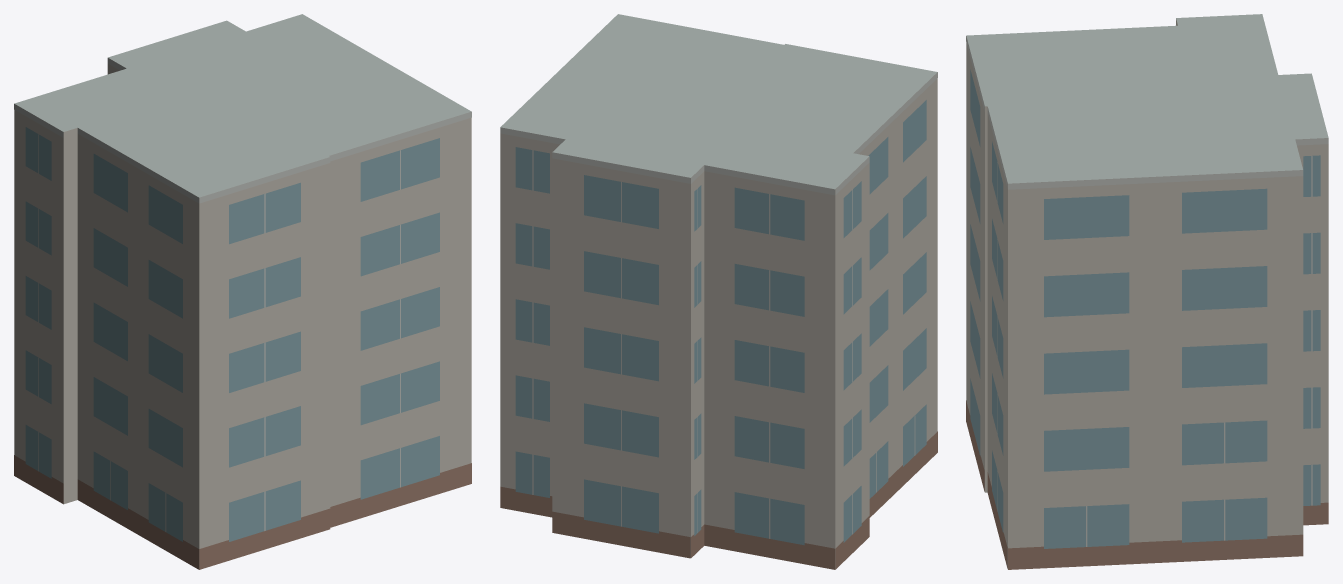
The model's file is survey-upis-33037349.glb.
3 views of the same model, side by side, from view 1: azimuth 30°, elevation 25°; view 2: azimuth 150°, elevation 25°; view 3: azimuth 270°, elevation 25° (orthographic). The views are drawn at different scales.
Visible parts, largest first — view 1: survey-upis-33037349.tmp; view 2: survey-upis-33037349.tmp; view 3: survey-upis-33037349.tmp.
Part boxes in pixels (left/top/right/bottom): survey-upis-33037349.tmp: left=14, top=14, right=471, bottom=569; survey-upis-33037349.tmp: left=500, top=14, right=937, bottom=569; survey-upis-33037349.tmp: left=966, top=14, right=1328, bottom=569.
Bounding box in the file's own units: 14.38 × 15.25 × 12.98.
